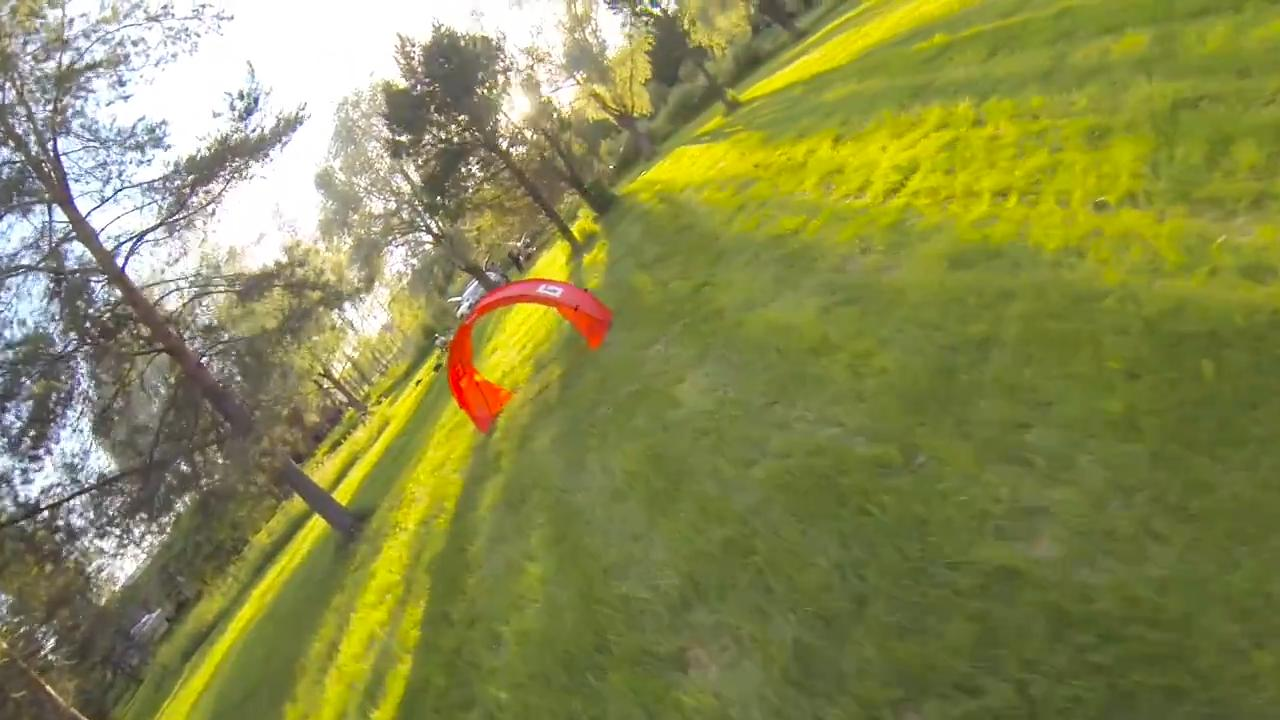gate: (441, 280, 614, 436)
